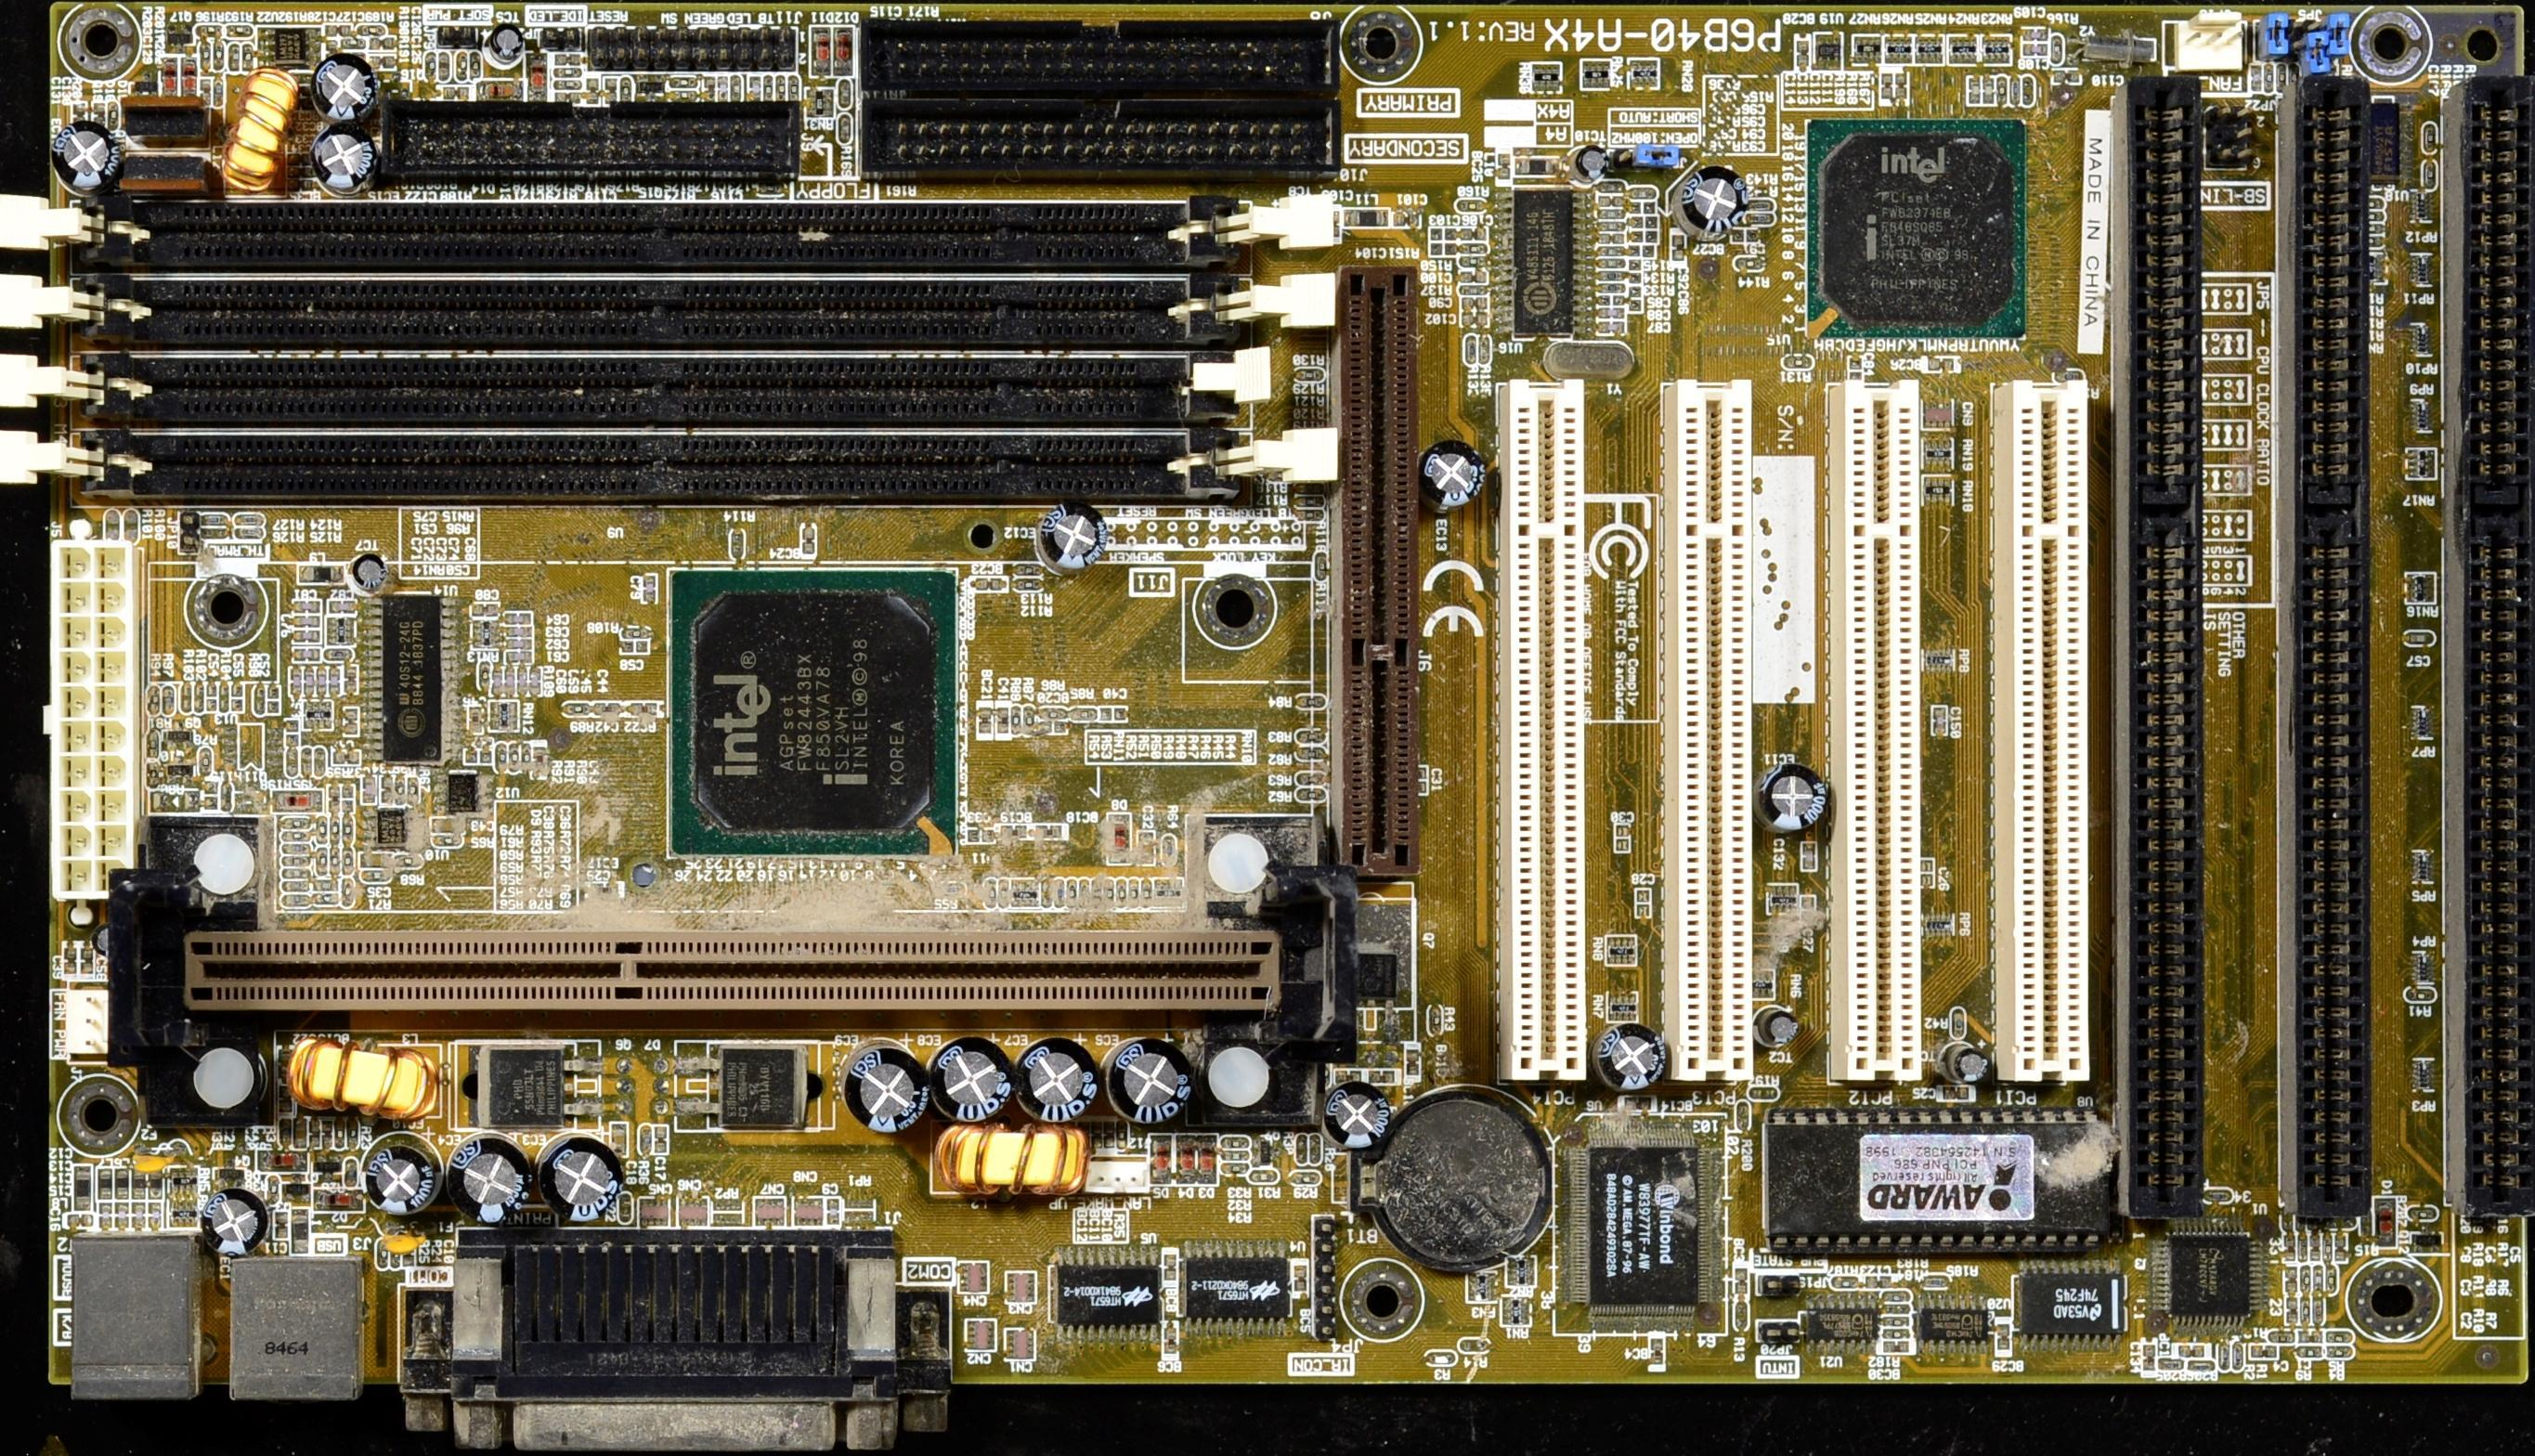Capacitor: (73, 1167, 94, 1212), (609, 1123, 629, 1163), (160, 63, 179, 98), (1139, 831, 1156, 867), (996, 702, 1012, 740), (2053, 68, 2086, 85), (1457, 313, 1492, 329), (181, 63, 197, 98), (655, 1123, 670, 1156), (825, 1196, 841, 1230), (99, 1169, 115, 1200), (618, 1195, 634, 1226), (273, 1209, 289, 1240), (2249, 1345, 2281, 1360), (434, 819, 465, 834), (360, 852, 392, 867), (1459, 298, 1494, 312), (1731, 228, 1760, 244), (1967, 77, 1983, 106), (92, 104, 106, 138), (1459, 244, 1492, 258), (1593, 307, 1626, 320), (627, 705, 660, 719), (117, 1170, 131, 1202), (148, 1170, 162, 1202), (1428, 244, 1456, 260), (2021, 28, 2049, 44), (2021, 44, 2049, 59), (507, 637, 535, 653), (1933, 707, 1948, 735), (1593, 324, 1628, 336), (73, 104, 87, 134), (324, 24, 353, 38), (329, 601, 359, 615), (1104, 707, 1130, 723), (118, 1202, 131, 1235), (1861, 1277, 1894, 1289), (148, 1203, 162, 1231), (1429, 228, 1457, 242), (1459, 228, 1487, 242), (294, 615, 322, 629), (507, 625, 535, 639), (592, 704, 620, 718), (362, 777, 376, 805), (200, 78, 212, 110), (134, 1169, 146, 1200), (101, 1202, 113, 1233), (402, 1240, 414, 1271), (1459, 272, 1490, 284), (646, 573, 658, 604), (233, 681, 245, 712), (270, 683, 282, 714), (2142, 1345, 2155, 1371), (1849, 357, 1863, 383), (507, 611, 533, 625), (1595, 296, 1628, 307), (2404, 632, 2432, 644), (294, 632, 322, 644), (507, 653, 535, 665), (1997, 78, 2009, 106), (440, 54, 451, 85), (296, 601, 322, 613), (214, 78, 225, 108), (1983, 77, 1994, 106), (134, 1205, 145, 1233), (622, 643, 649, 653), (207, 684, 218, 712), (472, 604, 503, 613)
Connector: (2277, 80, 2377, 1217), (2443, 80, 2535, 1217), (75, 423, 1241, 510), (2119, 77, 2204, 1223), (178, 934, 1288, 1014), (78, 204, 1233, 280), (61, 361, 1261, 430), (75, 287, 1238, 359), (1652, 381, 1758, 1083), (1985, 385, 2088, 1082), (1821, 381, 1920, 1082), (1497, 380, 1583, 1090), (1337, 265, 1419, 878), (858, 101, 1339, 185), (864, 21, 1341, 96), (385, 103, 799, 185)
IC: (665, 568, 963, 866), (1765, 1111, 2122, 1256), (1805, 122, 2027, 340), (1557, 1115, 1729, 1336), (367, 596, 456, 766), (1494, 188, 1590, 340), (2152, 1219, 2270, 1334), (1180, 1240, 1294, 1338), (2018, 1261, 2128, 1352), (1055, 1249, 1163, 1339), (1919, 1296, 1994, 1357), (1805, 1298, 1879, 1353), (437, 770, 494, 822), (256, 26, 322, 71), (364, 813, 418, 850), (1814, 33, 1844, 71), (2406, 190, 2436, 225), (2408, 254, 2434, 287), (2411, 326, 2437, 357)
Resistor: (153, 791, 200, 813), (1457, 1336, 1492, 1353), (145, 730, 160, 766), (198, 526, 233, 542), (146, 684, 162, 719), (1748, 1087, 1781, 1102), (1426, 1352, 1459, 1367), (1745, 212, 1778, 228), (1294, 730, 1325, 745), (1464, 334, 1478, 369), (198, 40, 212, 75), (212, 40, 226, 75), (289, 665, 303, 700), (200, 745, 214, 780), (2323, 1266, 2338, 1296), (2267, 1331, 2296, 1346), (1734, 258, 1764, 273), (1880, 1289, 1913, 1303), (1880, 1325, 1913, 1339), (2295, 1346, 2328, 1360), (355, 23, 388, 37), (1783, 357, 1816, 371), (494, 744, 508, 777), (639, 1125, 651, 1162), (1593, 272, 1630, 284), (552, 78, 588, 91), (1292, 1170, 1323, 1184), (2283, 1237, 2298, 1264), (374, 1240, 388, 1271), (1920, 1277, 1952, 1291), (1830, 1277, 1861, 1291), (1628, 230, 1659, 244), (477, 664, 491, 695), (329, 667, 343, 698), (345, 667, 359, 698), (562, 702, 590, 718), (1041, 707, 1069, 723), (345, 707, 359, 738), (1297, 747, 1325, 763), (327, 785, 341, 817), (1163, 836, 1177, 867), (2401, 991, 2436, 1003), (2361, 1202, 2373, 1237), (1879, 1304, 1913, 1317), (1624, 202, 1659, 214), (1624, 216, 1659, 228), (1593, 258, 1628, 270), (198, 514, 233, 526), (319, 667, 331, 702), (254, 684, 266, 719), (837, 80, 851, 110), (2408, 1207, 2437, 1221), (2335, 1233, 2349, 1263), (2310, 1235, 2324, 1264), (1736, 1304, 1750, 1334), (1626, 246, 1656, 260), (242, 45, 256, 75), (468, 52, 482, 82), (427, 52, 440, 82), (1297, 773, 1327, 787), (317, 848, 331, 878), (280, 1116, 292, 1149), (296, 1116, 308, 1149), (1295, 1134, 1308, 1167), (390, 1238, 402, 1271), (1595, 233, 1628, 246), (1595, 247, 1628, 260), (1593, 284, 1626, 296), (552, 54, 585, 66), (1024, 705, 1036, 738), (333, 752, 366, 765), (667, 78, 700, 91), (731, 533, 745, 561), (296, 650, 324, 664), (1299, 695, 1327, 709), (468, 707, 482, 735), (1311, 1136, 1323, 1167), (1628, 188, 1659, 200), (1595, 207, 1626, 219), (1457, 258, 1489, 270), (193, 26, 225, 38), (228, 42, 240, 73), (620, 627, 651, 639), (164, 684, 176, 716), (550, 68, 587, 78), (287, 718, 299, 749), (218, 784, 233, 808), (345, 817, 357, 848), (282, 846, 313, 859), (362, 871, 393, 883), (280, 895, 312, 907), (2011, 77, 2023, 108), (839, 118, 853, 145), (306, 667, 317, 702), (183, 683, 193, 718), (397, 857, 423, 871), (2296, 1235, 2309, 1264), (2300, 1298, 2312, 1327), (2296, 1332, 2326, 1345), (2326, 1332, 2356, 1345), (2326, 1348, 2356, 1360), (1459, 286, 1489, 298), (324, 650, 353, 662), (456, 52, 468, 82), (343, 785, 355, 815), (667, 92, 700, 103), (312, 1116, 322, 1149), (322, 1118, 333, 1151), (1015, 582, 1048, 592), (432, 836, 465, 846), (280, 857, 313, 867), (1222, 1139, 1250, 1151), (1252, 1172, 1280, 1184), (2300, 1266, 2312, 1294), (2286, 1268, 2298, 1296), (2053, 37, 2065, 64), (1017, 566, 1045, 578), (371, 56, 399, 68), (315, 749, 327, 777), (1299, 791, 1327, 803), (620, 78, 634, 103), (763, 78, 777, 103), (350, 1118, 360, 1149), (1482, 336, 1492, 367), (219, 683, 230, 714), (282, 871, 313, 881), (1879, 1317, 1915, 1325), (226, 26, 252, 38), (604, 77, 616, 103), (749, 78, 763, 101), (2323, 1235, 2333, 1264), (1595, 221, 1624, 232), (369, 40, 399, 51), (235, 529, 265, 540), (193, 683, 204, 712), (1013, 707, 1024, 737), (522, 745, 533, 775), (303, 747, 313, 777), (280, 819, 310, 829), (284, 832, 313, 843), (343, 848, 353, 878), (282, 883, 312, 893), (2023, 77, 2034, 106), (787, 77, 799, 101), (1746, 200, 1774, 211), (482, 737, 493, 765), (317, 817, 327, 845), (331, 819, 341, 846), (345, 880, 355, 907), (383, 775, 392, 808), (731, 78, 743, 101), (336, 1118, 345, 1149), (2314, 1299, 2324, 1325), (1598, 199, 1624, 209), (1074, 709, 1100, 719), (468, 738, 479, 765), (411, 779, 420, 810), (777, 77, 787, 103), (1220, 1165, 1250, 1174), (239, 519, 268, 528), (510, 745, 519, 775), (333, 850, 341, 880), (2286, 1299, 2296, 1324), (343, 40, 367, 51), (1222, 1153, 1250, 1162), (2314, 1266, 2323, 1294), (289, 749, 298, 777), (717, 78, 728, 101), (317, 893, 340, 904), (399, 773, 406, 806), (315, 883, 340, 892), (1597, 185, 1626, 192)
Transistor: (454, 1045, 602, 1129), (214, 1169, 249, 1183)
